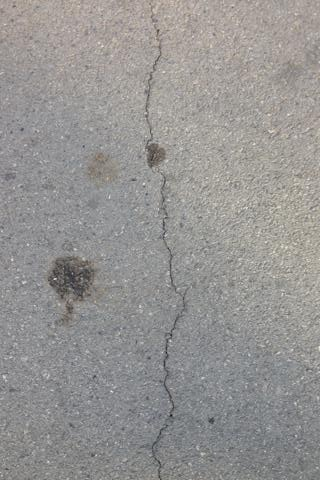A: (139, 3, 195, 477)
